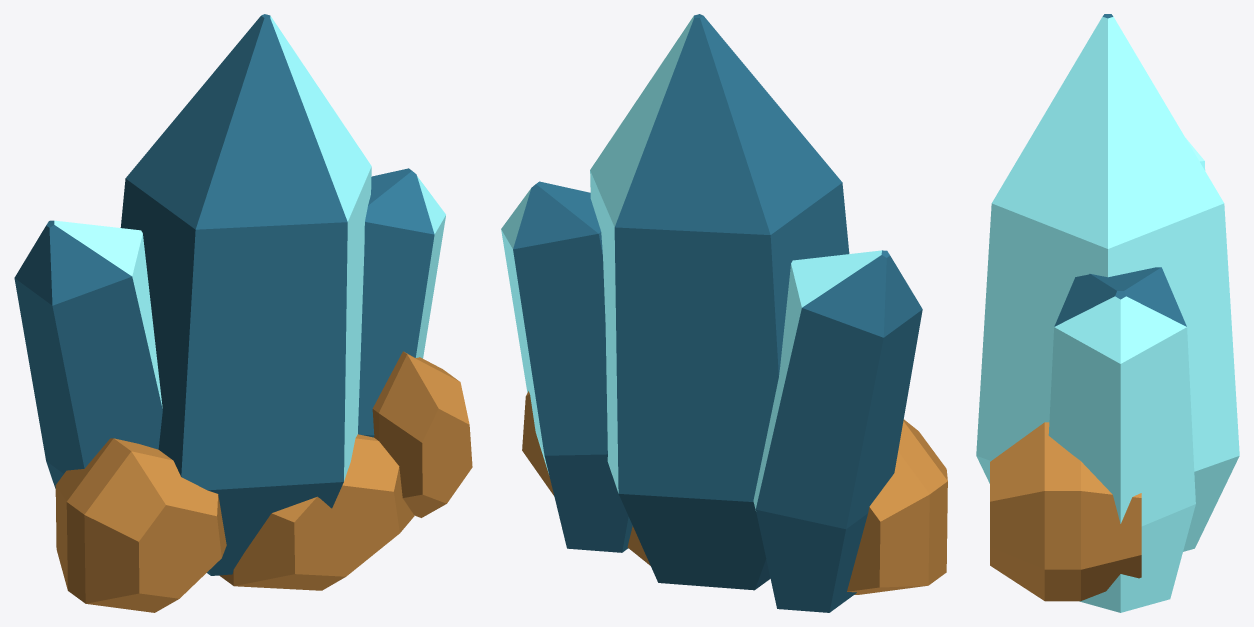
The model's file is Solar_Glass.glb.
3 views of the same model, side by side, from view 1: azimuth 30°, elevation 25°; view 2: azimuth 150°, elevation 25°; view 3: azimuth 270°, elevation 25° (orthographic). The views are drawn at different scales.
Visible parts, largest first — view 1: Solar_Glass; view 2: Solar_Glass; view 3: Solar_Glass.
Part boxes in pixels (x1,y1,x2,y2): Solar_Glass: [14, 14, 472, 612]; Solar_Glass: [501, 14, 947, 612]; Solar_Glass: [976, 14, 1239, 612].
Size of the model in its own units: 1.13 by 1.5 by 0.6258.
